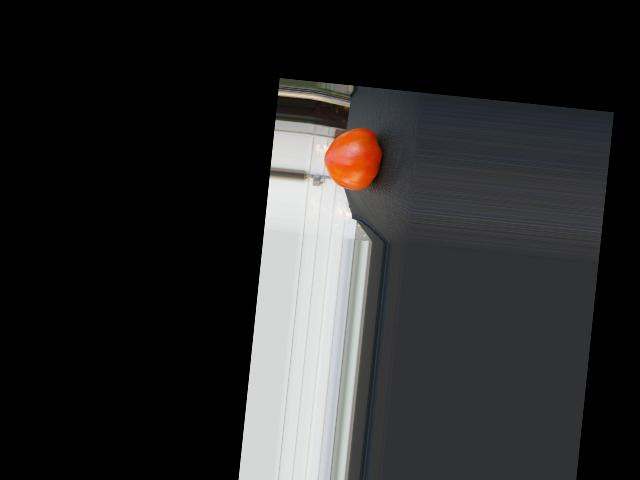tomato: (321, 124, 384, 192)
